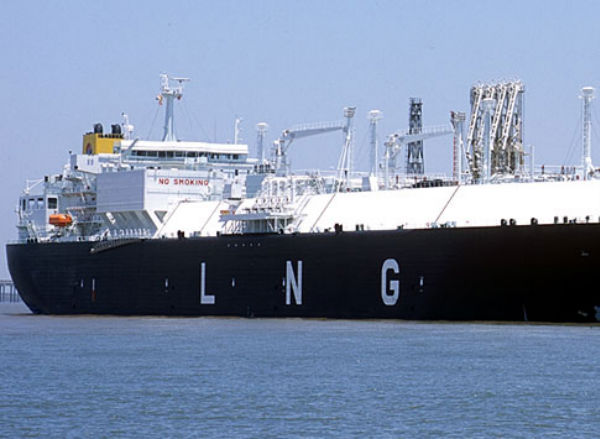Cargoship: (7, 76, 600, 329)
